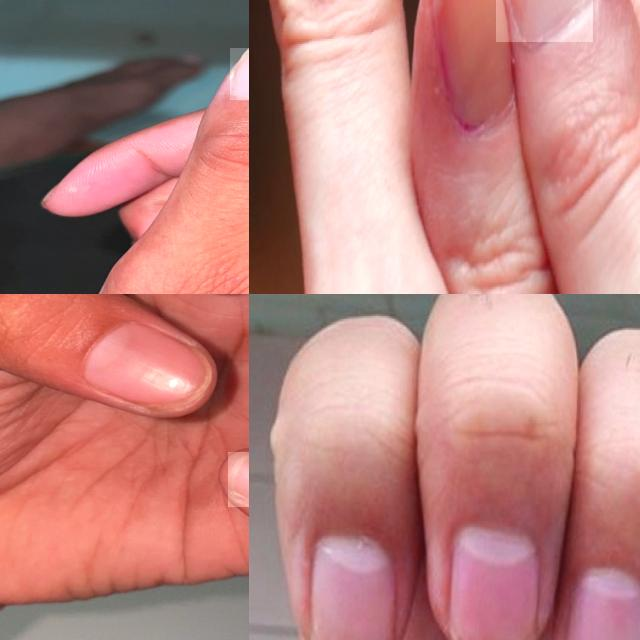sehat: (83, 321, 208, 407), (437, 0, 514, 128), (451, 531, 537, 640), (308, 536, 393, 640), (566, 569, 640, 640), (229, 453, 249, 500)
